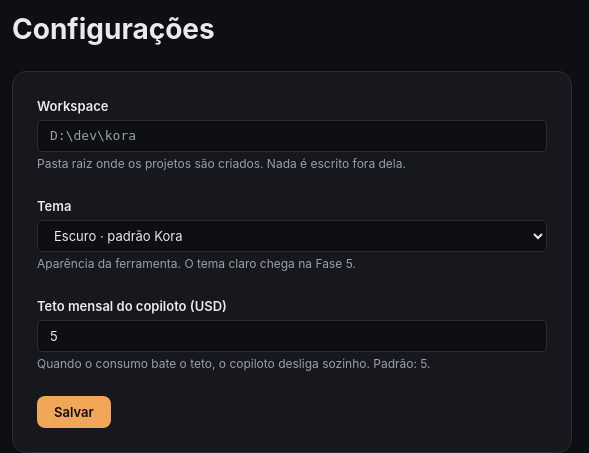
PaginaConfig › sucesso dá feedback textual e mostra o valor normalizado pelo servidor
(page scrolled)
Type "/tmp/ws/" into the field labelled "Workspace". click: coordinates (292, 136)
box: [37,120,547,152]
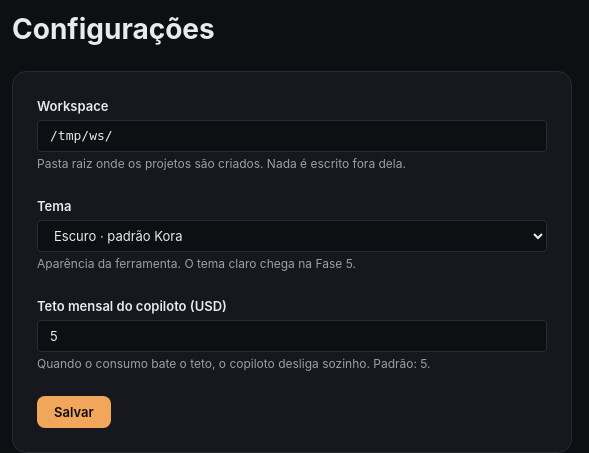
Click the button "Salvar". click: coordinates (74, 412)
box: [37,396,111,428]
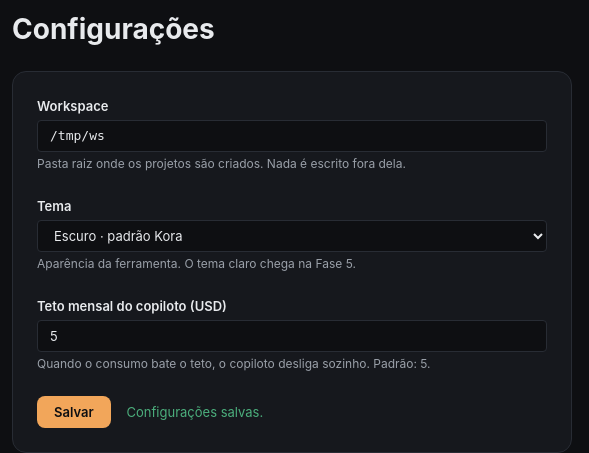
Expected: the field labelled "Workspace" holds "/tmp/ws", [37,120,547,152]
Expected: the message reads "Configurações salvas.", [127,404,263,420]
